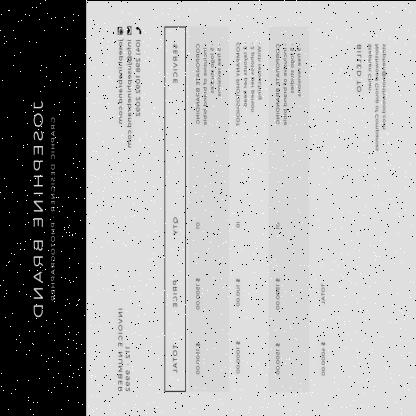Paragraph: (31, 96, 59, 320), (352, 38, 388, 154), (115, 22, 144, 150), (115, 304, 132, 394), (318, 278, 328, 380)
Table: (165, 26, 309, 392)
